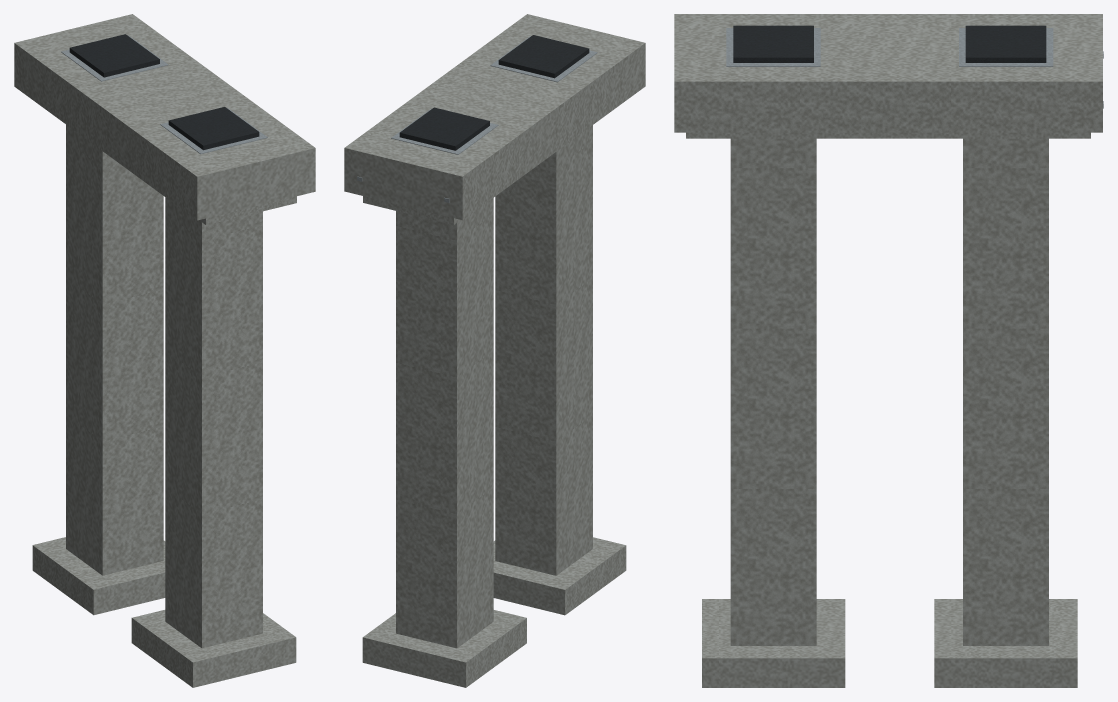
The model's file is PZ_05_ConcretePier_8m.glb.
3 views of the same model, side by side, from view 1: azimuth 30°, elevation 25°; view 2: azimuth 150°, elevation 25°; view 3: azimuth 270°, elevation 25° (orthographic). The views are drawn at different scales.
Parts seen in each view (by area): view 1: PIER_Column_R, PIER_Column_L, PIER_LoadTransferCap, PIER_Foot_R, PIER_Foot_L, PIER_ElastomerBearing_R, PIER_ElastomerBearing_L, PIER_CapStiffener, PIER_BearingPlate_L, PIER_BearingPlate_R; view 2: PIER_Column_L, PIER_Column_R, PIER_LoadTransferCap, PIER_Foot_L, PIER_Foot_R, PIER_ElastomerBearing_R, PIER_ElastomerBearing_L, PIER_CapStiffener, PIER_BearingPlate_R, PIER_BearingPlate_L; view 3: PIER_Column_R, PIER_Column_L, PIER_LoadTransferCap, PIER_Foot_R, PIER_Foot_L, PIER_ElastomerBearing_L, PIER_ElastomerBearing_R, PIER_CapStiffener, PIER_BearingPlate_L, PIER_BearingPlate_R.
Boxes of the visible parts, <box> form: PIER_Column_R: <box>165,197,262,648</box>; PIER_Column_L: <box>66,124,163,575</box>; PIER_LoadTransferCap: <box>14,14,315,220</box>; PIER_Foot_R: <box>131,610,296,687</box>; PIER_Foot_L: <box>32,537,165,615</box>; PIER_ElastomerBearing_R: <box>168,107,259,150</box>; PIER_ElastomerBearing_L: <box>69,34,159,77</box>; PIER_CapStiffener: <box>199,196,296,225</box>; PIER_BearingPlate_L: <box>61,35,168,81</box>; PIER_BearingPlate_R: <box>160,108,267,154</box>; PIER_Column_L: <box>396,198,493,648</box>; PIER_Column_R: <box>495,125,592,575</box>; PIER_LoadTransferCap: <box>344,14,645,220</box>; PIER_Foot_L: <box>362,610,526,687</box>; PIER_Foot_R: <box>493,537,626,615</box>; PIER_ElastomerBearing_R: <box>498,35,589,78</box>; PIER_ElastomerBearing_L: <box>399,107,489,150</box>; PIER_CapStiffener: <box>363,196,460,224</box>; PIER_BearingPlate_R: <box>490,36,597,82</box>; PIER_BearingPlate_L: <box>391,108,498,154</box>; PIER_Column_R: <box>730,138,816,645</box>; PIER_Column_L: <box>963,138,1048,645</box>; PIER_LoadTransferCap: <box>674,14,1102,132</box>; PIER_Foot_R: <box>702,599,845,687</box>; PIER_Foot_L: <box>934,599,1077,687</box>; PIER_ElastomerBearing_L: <box>965,25,1046,62</box>; PIER_ElastomerBearing_R: <box>733,25,813,62</box>; PIER_CapStiffener: <box>686,132,1090,138</box>; PIER_BearingPlate_L: <box>959,28,1053,66</box>; PIER_BearingPlate_R: <box>726,28,820,66</box>.
Bounding box in the file's own units: 1.9 × 8.08 × 5.1.
Materials: 3 (3 with a texture image).
